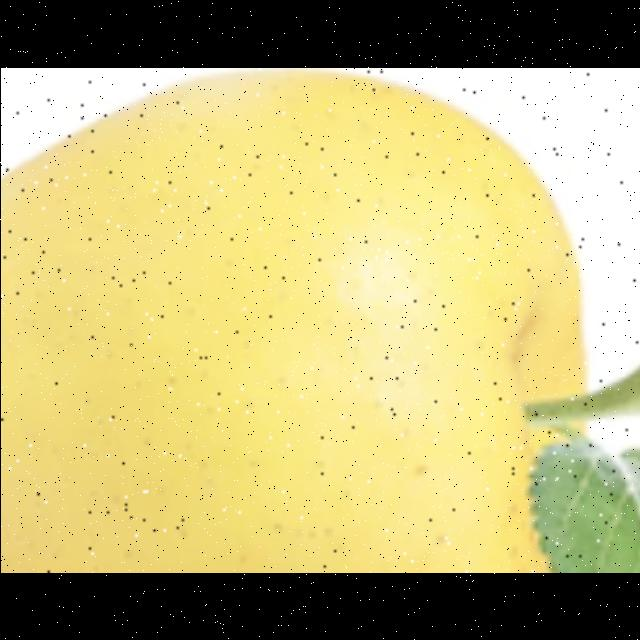Apel Segar: (1, 68, 602, 572)
